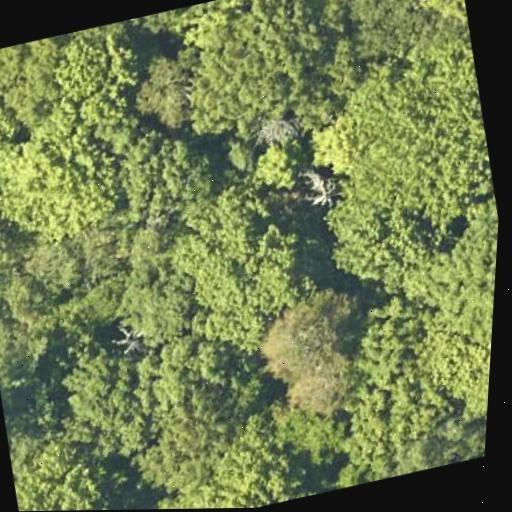tree-top: (309, 52, 504, 236), (123, 349, 295, 510), (162, 184, 325, 347), (158, 0, 331, 147), (0, 101, 144, 247), (44, 326, 171, 467), (251, 284, 377, 425), (326, 379, 470, 487), (315, 166, 428, 290), (3, 411, 127, 512), (114, 119, 228, 225), (152, 441, 306, 509), (332, 293, 427, 395), (411, 222, 498, 329), (416, 322, 492, 432), (108, 264, 207, 346), (119, 43, 204, 135), (53, 20, 141, 106), (0, 271, 58, 385), (0, 34, 75, 114), (328, 0, 423, 62), (237, 129, 312, 202), (0, 163, 32, 295), (25, 231, 88, 296), (0, 63, 37, 164), (116, 220, 178, 277), (398, 0, 469, 36), (471, 386, 489, 456)
